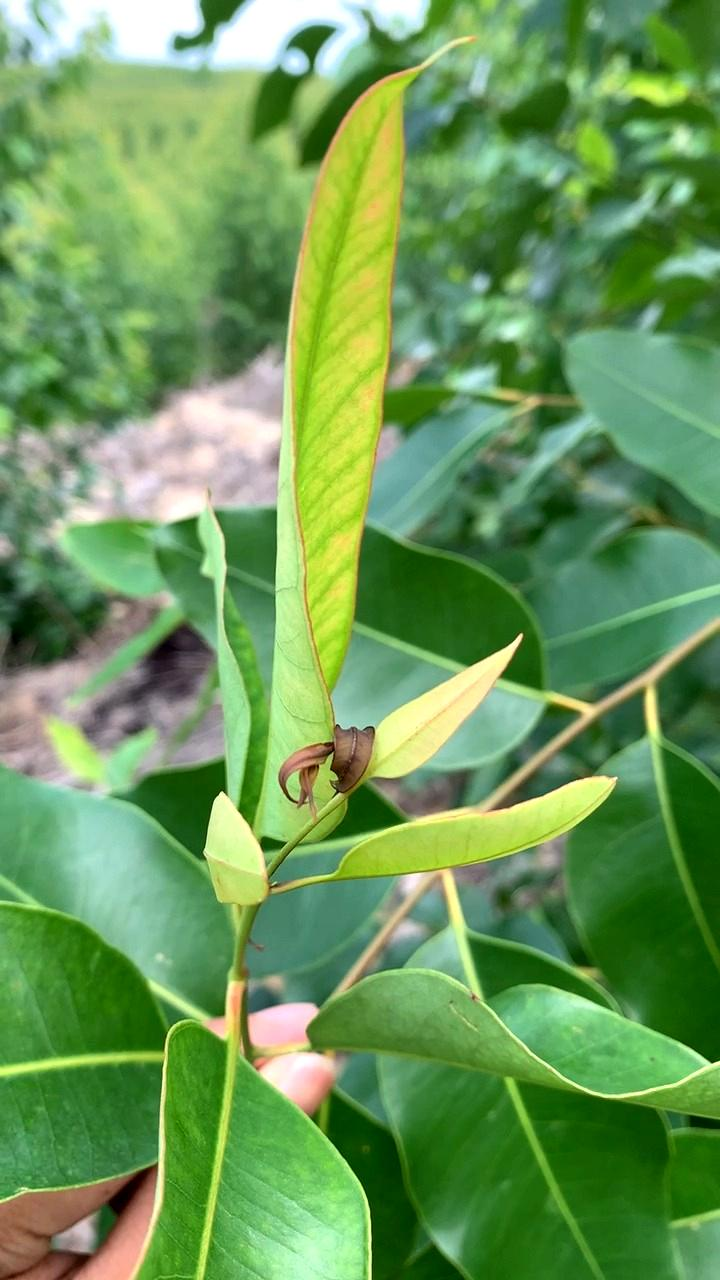Helopeltis-Withered Sprout: (261, 708, 395, 835)
